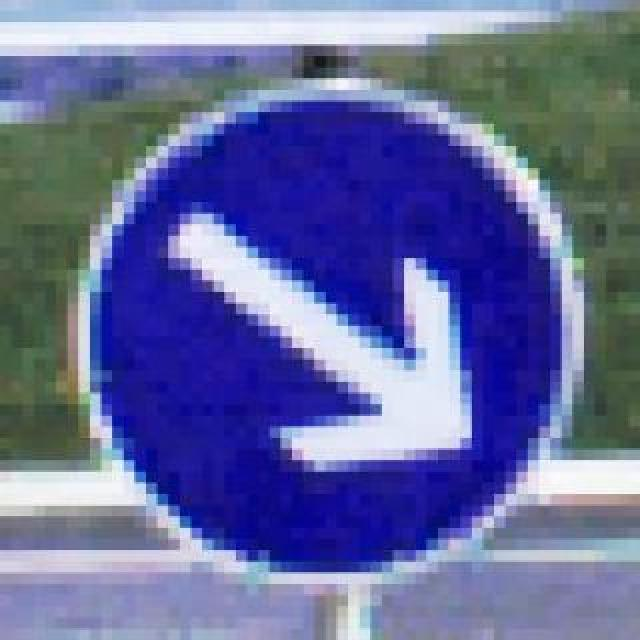keep right: (56, 68, 572, 574)
